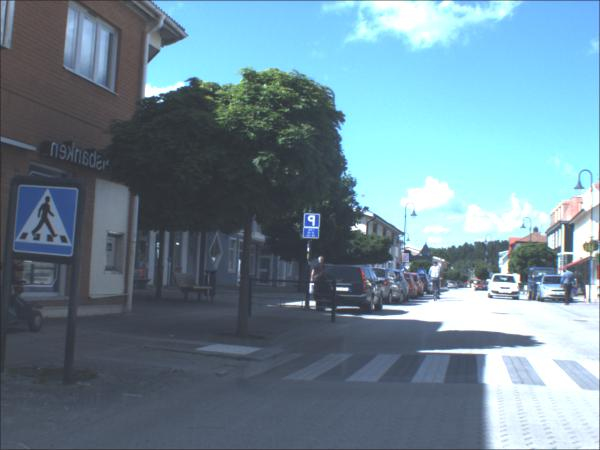NO_PARKING: (402, 255, 410, 265)
PEDESTRIAN_CROSSING: (11, 188, 80, 260)
